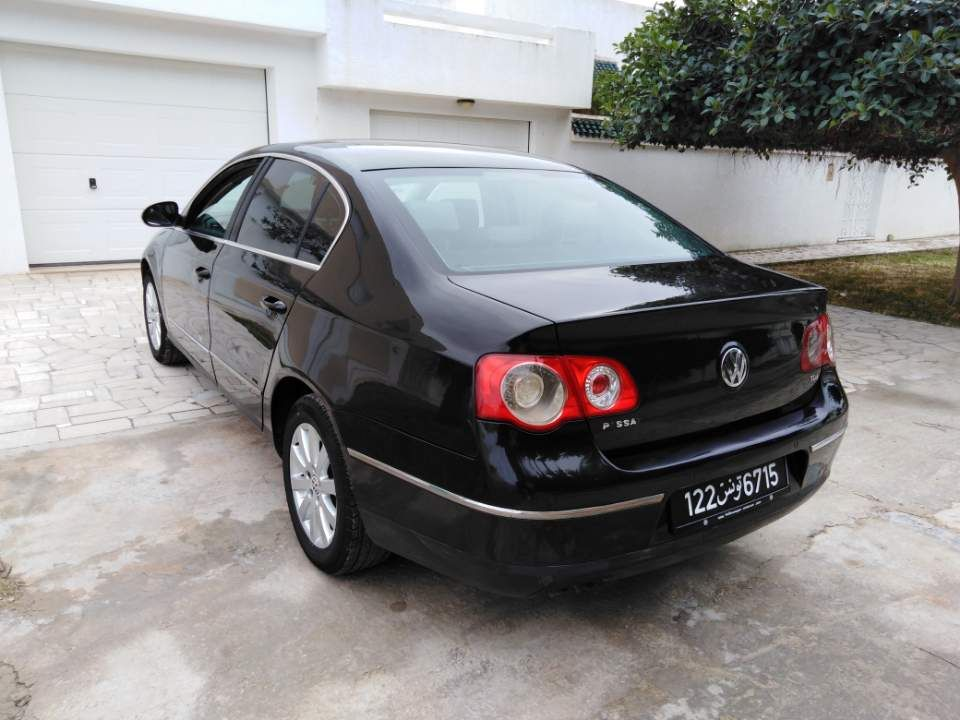LP: (670, 455, 791, 523)
